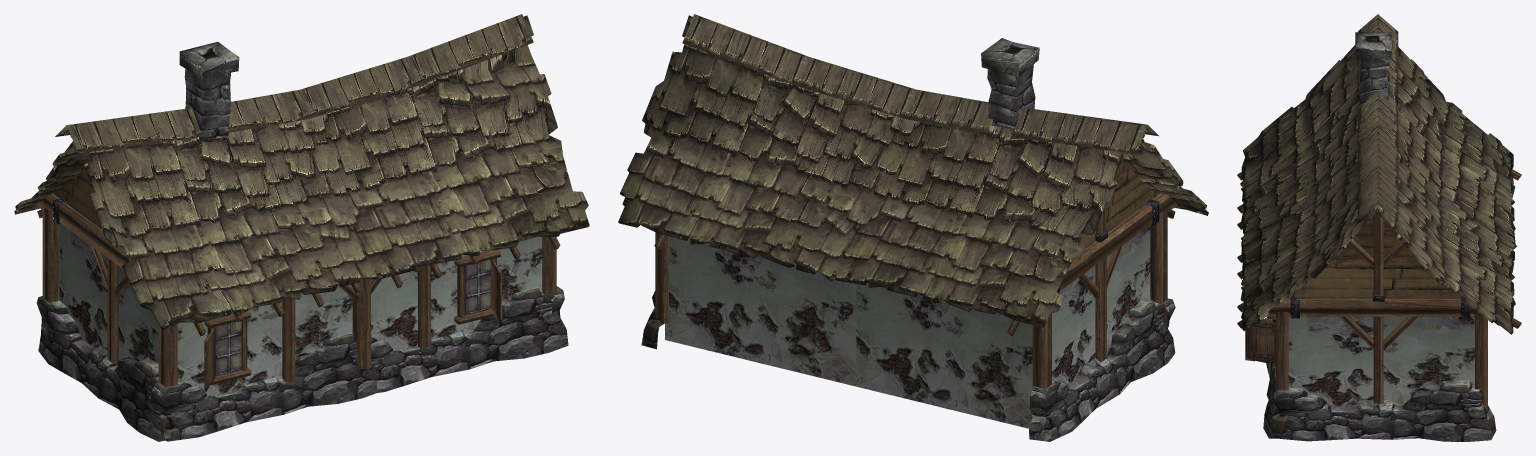
The model's file is Scene_Building.FBX.
3 renders of one model, left to right at view 1: azimuth 30°, elevation 25°; view 2: azimuth 150°, elevation 25°; view 3: azimuth 270°, elevation 25°, orthographic. The views are drawn at different scales.
Parts seen in each view (by area): view 1: Scene_Building; view 2: Scene_Building; view 3: Scene_Building.
Boxes of the visible parts, left/top/right/bottom form: Scene_Building: left=14, top=14, right=589, bottom=441; Scene_Building: left=618, top=14, right=1208, bottom=441; Scene_Building: left=1237, top=14, right=1521, bottom=441.
Size of the model in its own units: 20.02 by 13.02 by 12.2.
